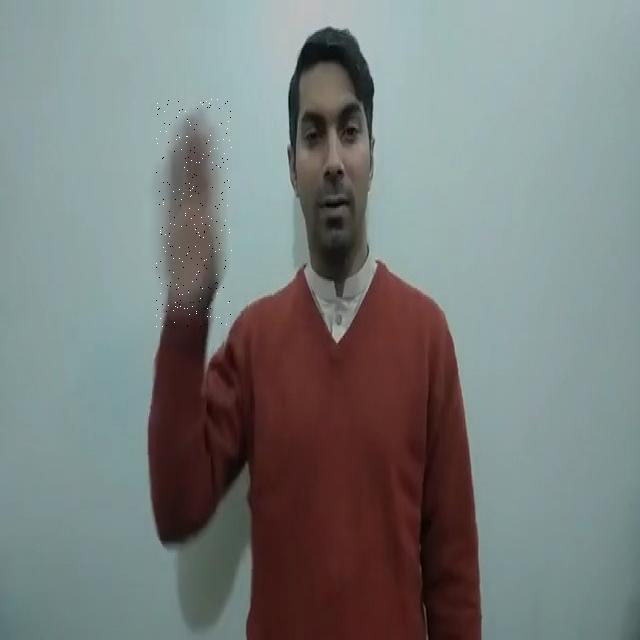hello: (156, 99, 232, 327)
